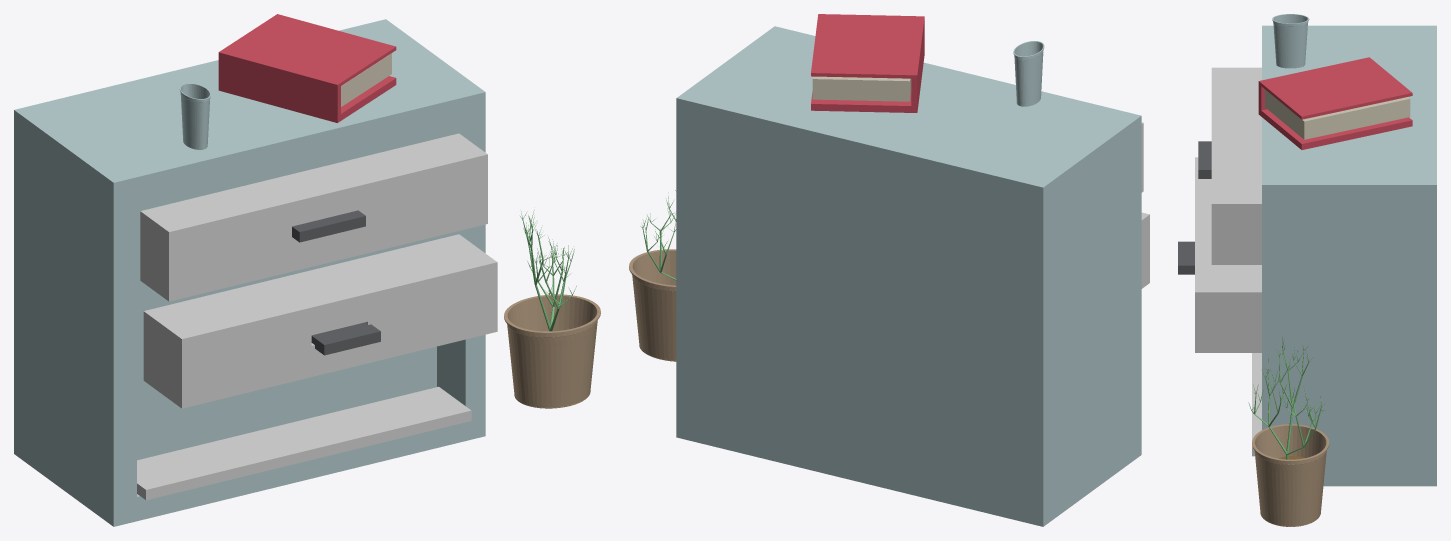
File: Side Table.glb
The picture shows the model from 3 angles, left to right: view 1: azimuth 30°, elevation 25°; view 2: azimuth 150°, elevation 25°; view 3: azimuth 270°, elevation 25°; orthographic projection. The views are drawn at different scales.
Parts seen in each view (by area): view 1: Mesh_Mesh_head_geo.001_lambert2SG.001; view 2: Mesh_Mesh_head_geo.001_lambert2SG.001; view 3: Mesh_Mesh_head_geo.001_lambert2SG.001.
Part boxes in pixels (x1,y1,x2,y2): Mesh_Mesh_head_geo.001_lambert2SG.001: [14, 14, 600, 526]; Mesh_Mesh_head_geo.001_lambert2SG.001: [629, 14, 1149, 526]; Mesh_Mesh_head_geo.001_lambert2SG.001: [1178, 14, 1436, 526].
Bounding box in the file's own units: 150 × 115 × 77.
